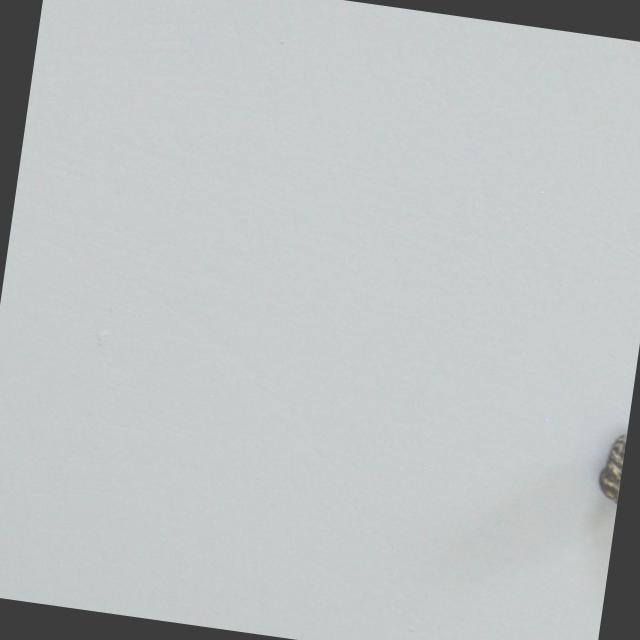cuerpos_extranos: (577, 419, 628, 523)
